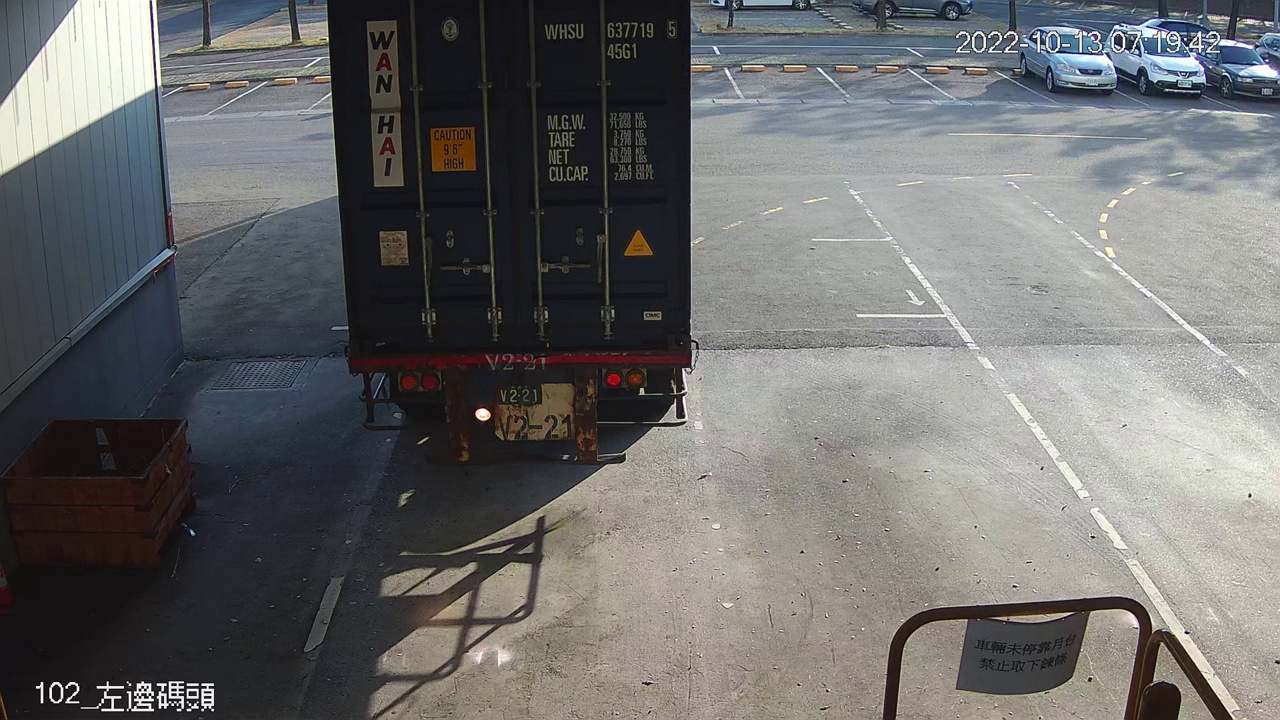container: (539, 13, 683, 67)
